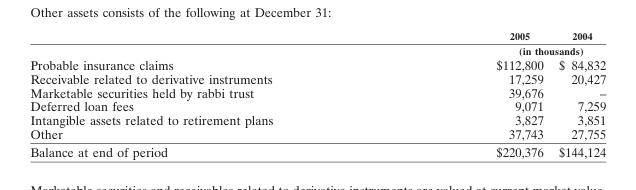table: (29, 29, 605, 159)
table column: (29, 29, 383, 159), (383, 29, 550, 159), (550, 29, 605, 159)
table column header: (29, 29, 605, 56)
table row: (29, 142, 605, 159), (29, 126, 605, 142), (29, 56, 605, 71), (29, 42, 605, 56), (29, 71, 605, 85), (29, 98, 605, 112), (29, 112, 605, 126), (29, 29, 605, 42), (29, 85, 605, 98)
table spanning cell: (383, 42, 605, 56)
